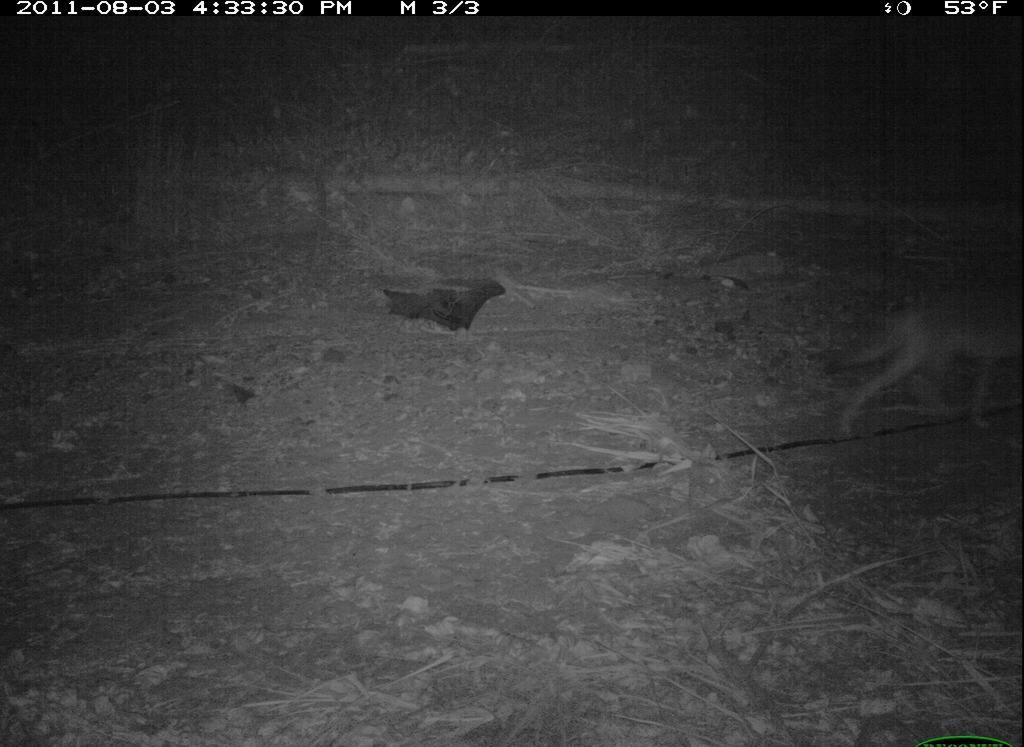coyote: (813, 283, 1012, 440)
